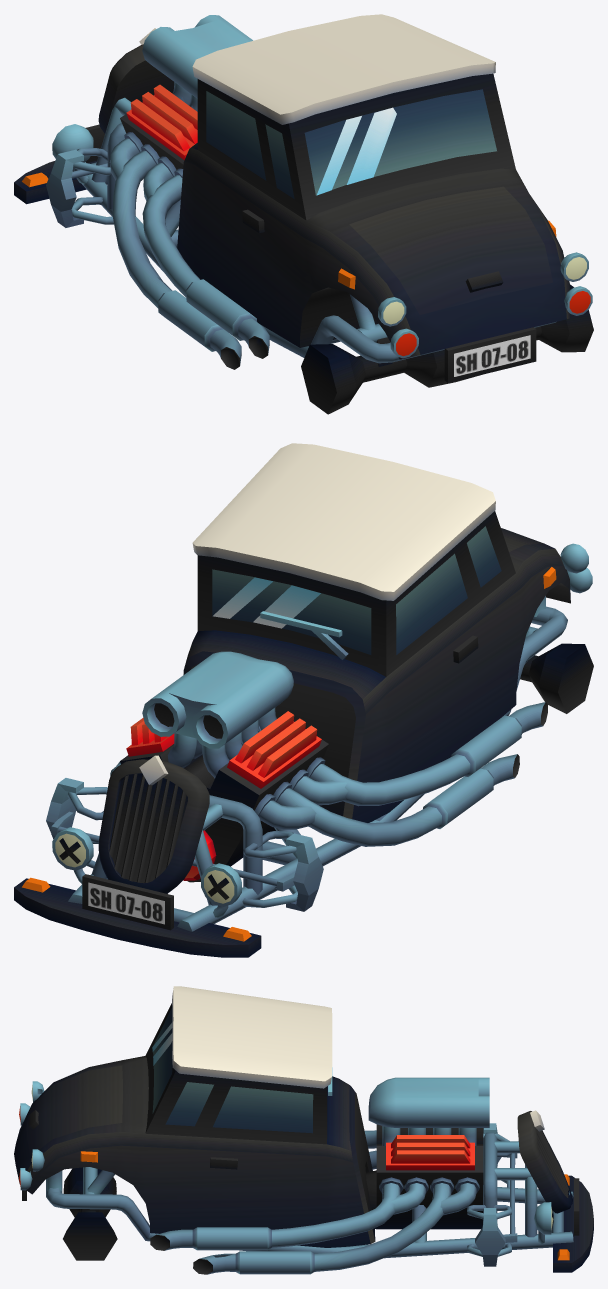
File: retro.glb
3 views of the same model, one above another, from view 1: azimuth 30°, elevation 25°; view 2: azimuth 150°, elevation 25°; view 3: azimuth 270°, elevation 25° (orthographic). The views are drawn at different scales.
Visible parts, largest first — view 1: model_4.001; view 2: model_4.001; view 3: model_4.001.
Part boxes in pixels (box(x1,y1,x2,y2)): model_4.001: box(14, 14, 593, 414); model_4.001: box(14, 443, 593, 957); model_4.001: box(14, 986, 593, 1274).
Bounding box in the file's own units: 130 × 117 × 292.
Materials: 1 (1 with a texture image).
